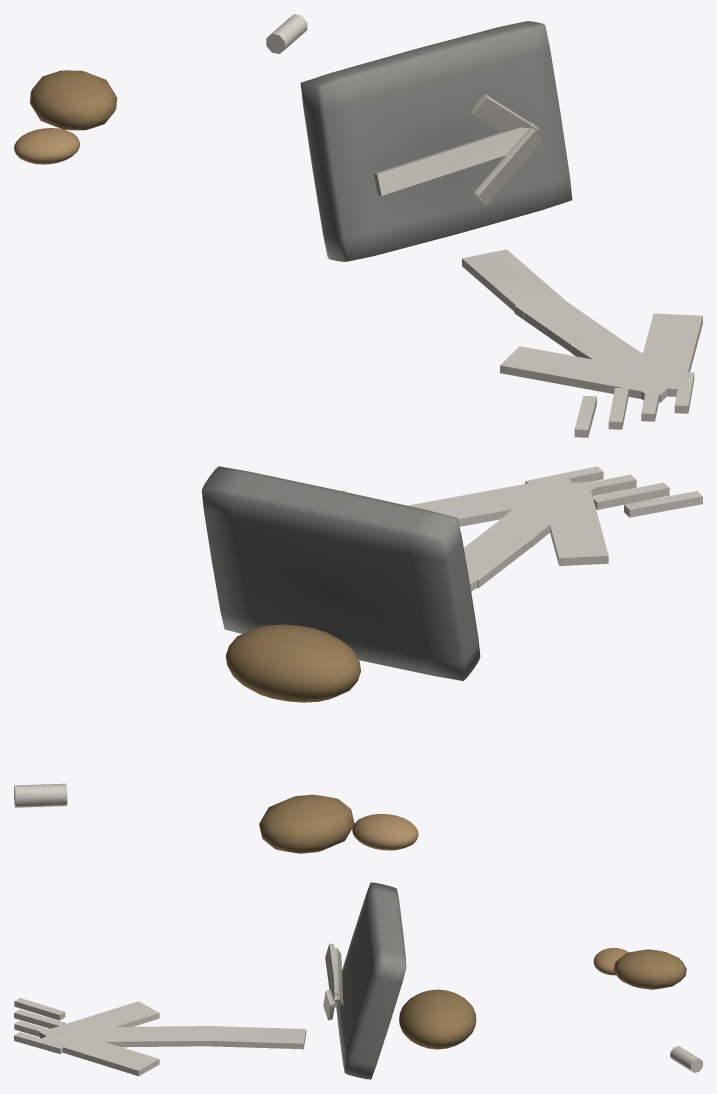
The model's file is chalk_turn_c.glb.
3 views of the same model, one above another, from view 1: azimuth 30°, elevation 25°; view 2: azimuth 150°, elevation 25°; view 3: azimuth 270°, elevation 25° (orthographic). The views are drawn at different scales.
Parts seen in each view (by area): view 1: Surface; view 2: Surface; view 3: Surface.
Part boxes in pixels (box(x1,y1,x2,y2)): Surface: box(14, 14, 702, 437); Surface: box(14, 466, 702, 853); Surface: box(14, 882, 702, 1079).
Bounding box in the file's own units: 2.45 × 1.13 × 5.67.
